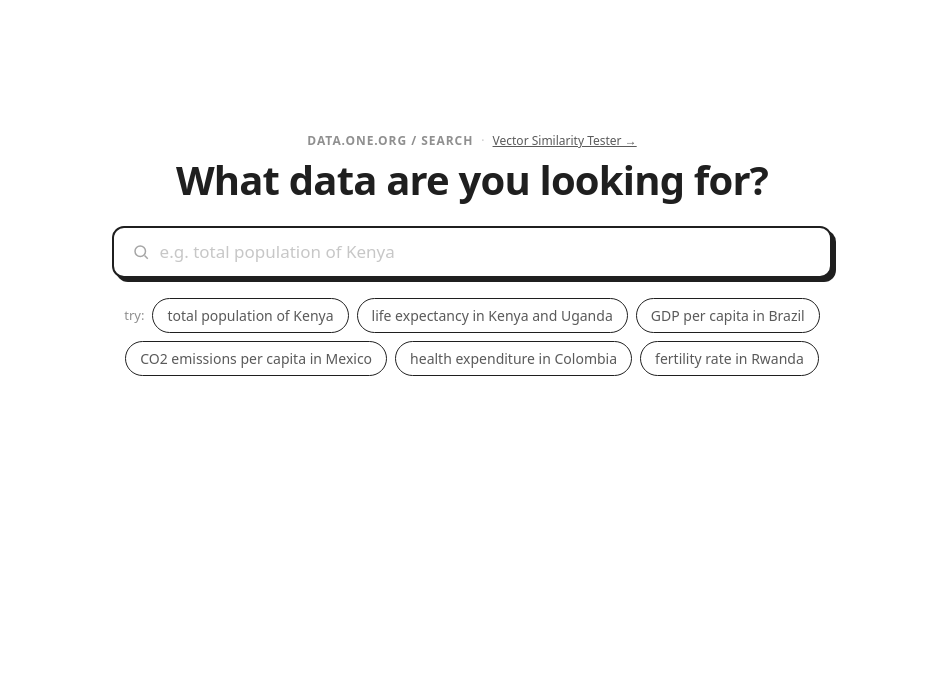
it: <SearchClient> — data preview › renders DataPreview under a definite result
The width and height of the screenshot is (945, 695).
In the search field named "describe the data you want": (486, 252) [160, 239, 812, 265], type "women in Kenya"
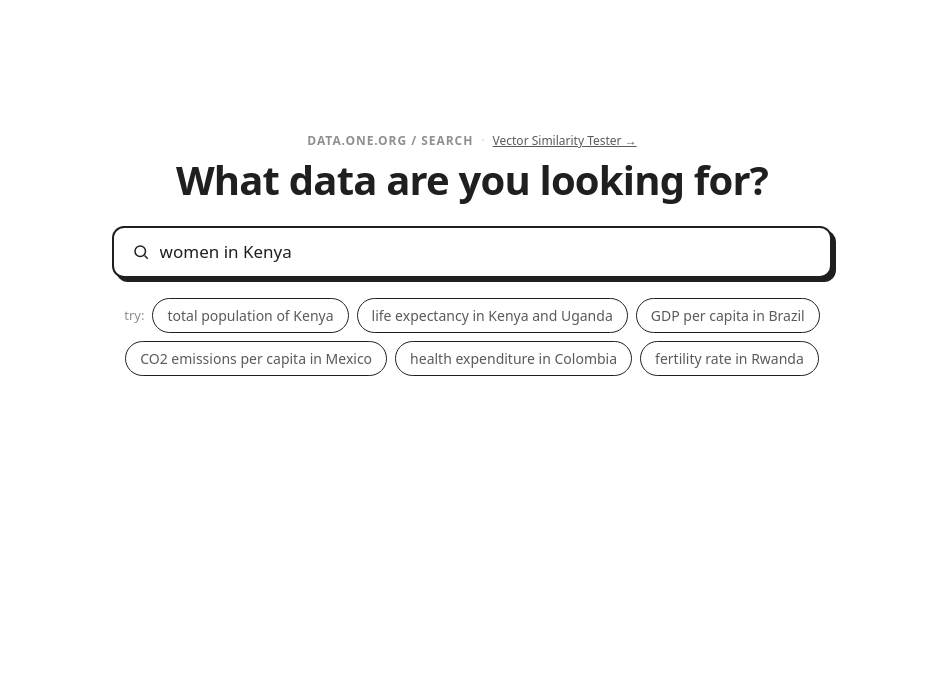
Submit the form, box [112, 226, 832, 278]
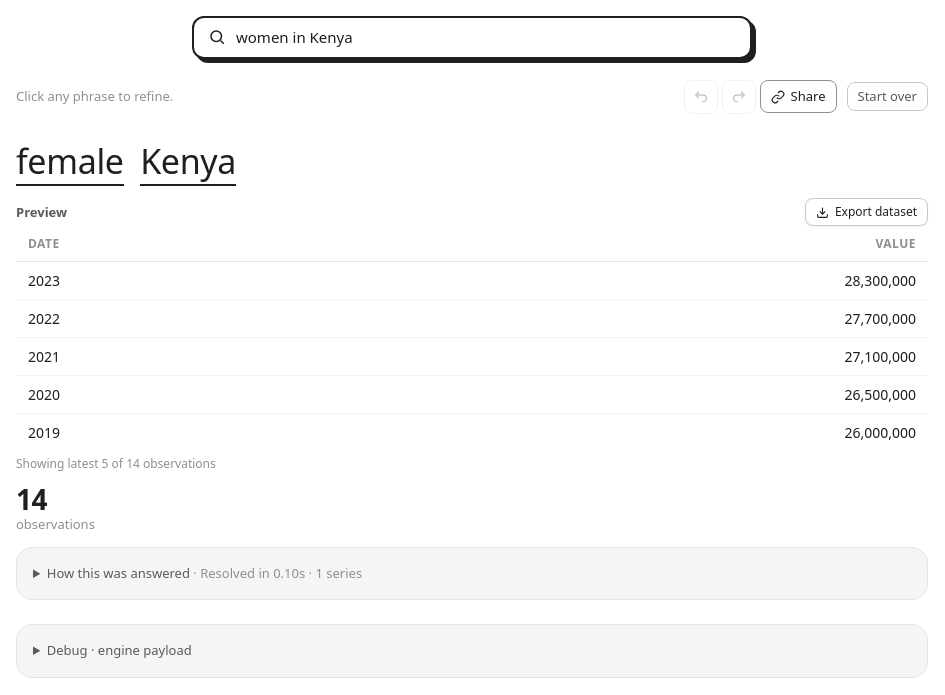
Expected: the element named "data preview" is shown, [16, 198, 928, 473]
Expected: the text "Preview" is shown, [16, 203, 67, 222]
